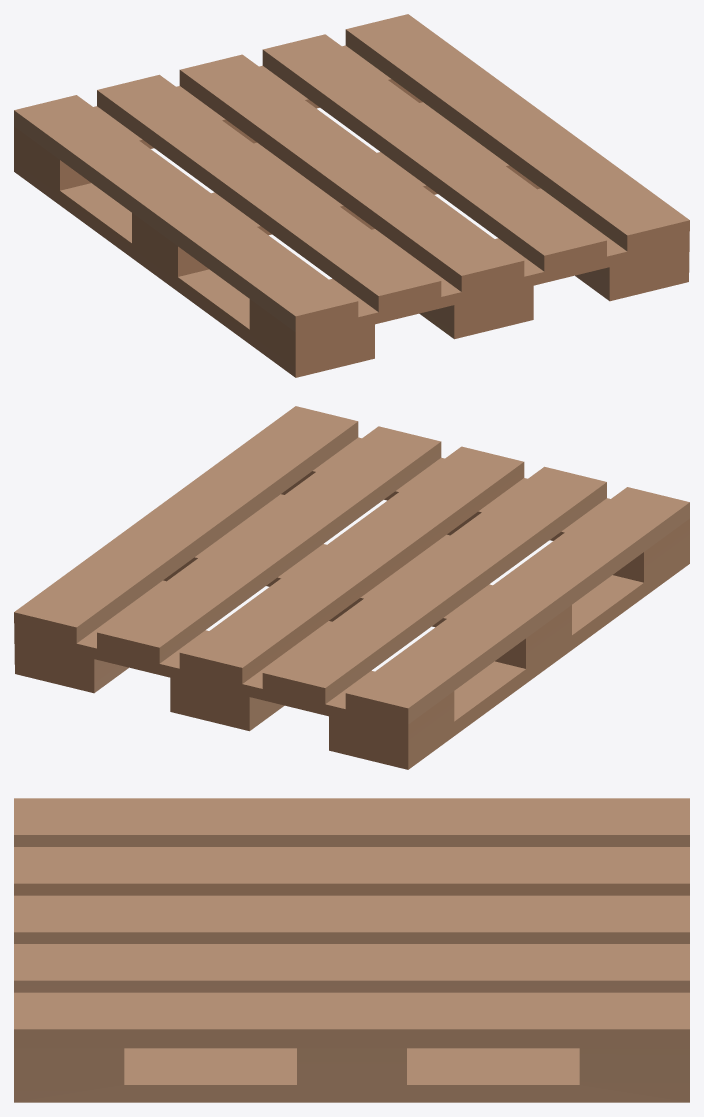
File: WoodPallet.fbx
3 views of the same model, one above another, from view 1: azimuth 30°, elevation 25°; view 2: azimuth 150°, elevation 25°; view 3: azimuth 270°, elevation 25° (orthographic). The views are drawn at different scales.
Parts seen in each view (by area): view 1: WoodPallet; view 2: WoodPallet; view 3: WoodPallet.
Part boxes in pixels (box(x1,y1,x2,y2)): WoodPallet: box(14, 14, 689, 377); WoodPallet: box(14, 406, 689, 769); WoodPallet: box(14, 798, 689, 1102).
Bounding box in the file's own units: 171 × 25.54 × 212.
